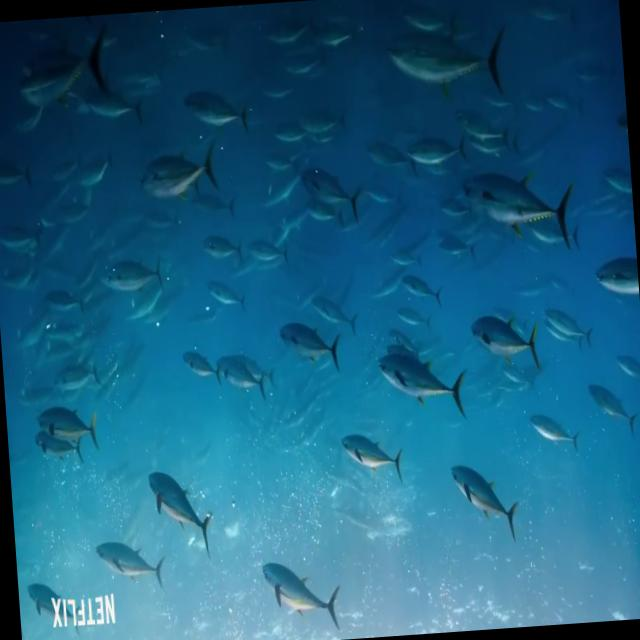fish: (458, 162, 570, 254), (386, 22, 510, 98), (14, 28, 117, 116), (374, 349, 468, 424), (260, 557, 342, 635), (448, 459, 520, 546), (148, 468, 212, 554), (469, 310, 544, 376), (138, 146, 222, 200), (278, 312, 342, 378), (95, 534, 165, 592), (302, 164, 364, 222), (182, 86, 253, 136), (339, 434, 407, 484), (217, 354, 268, 406)
